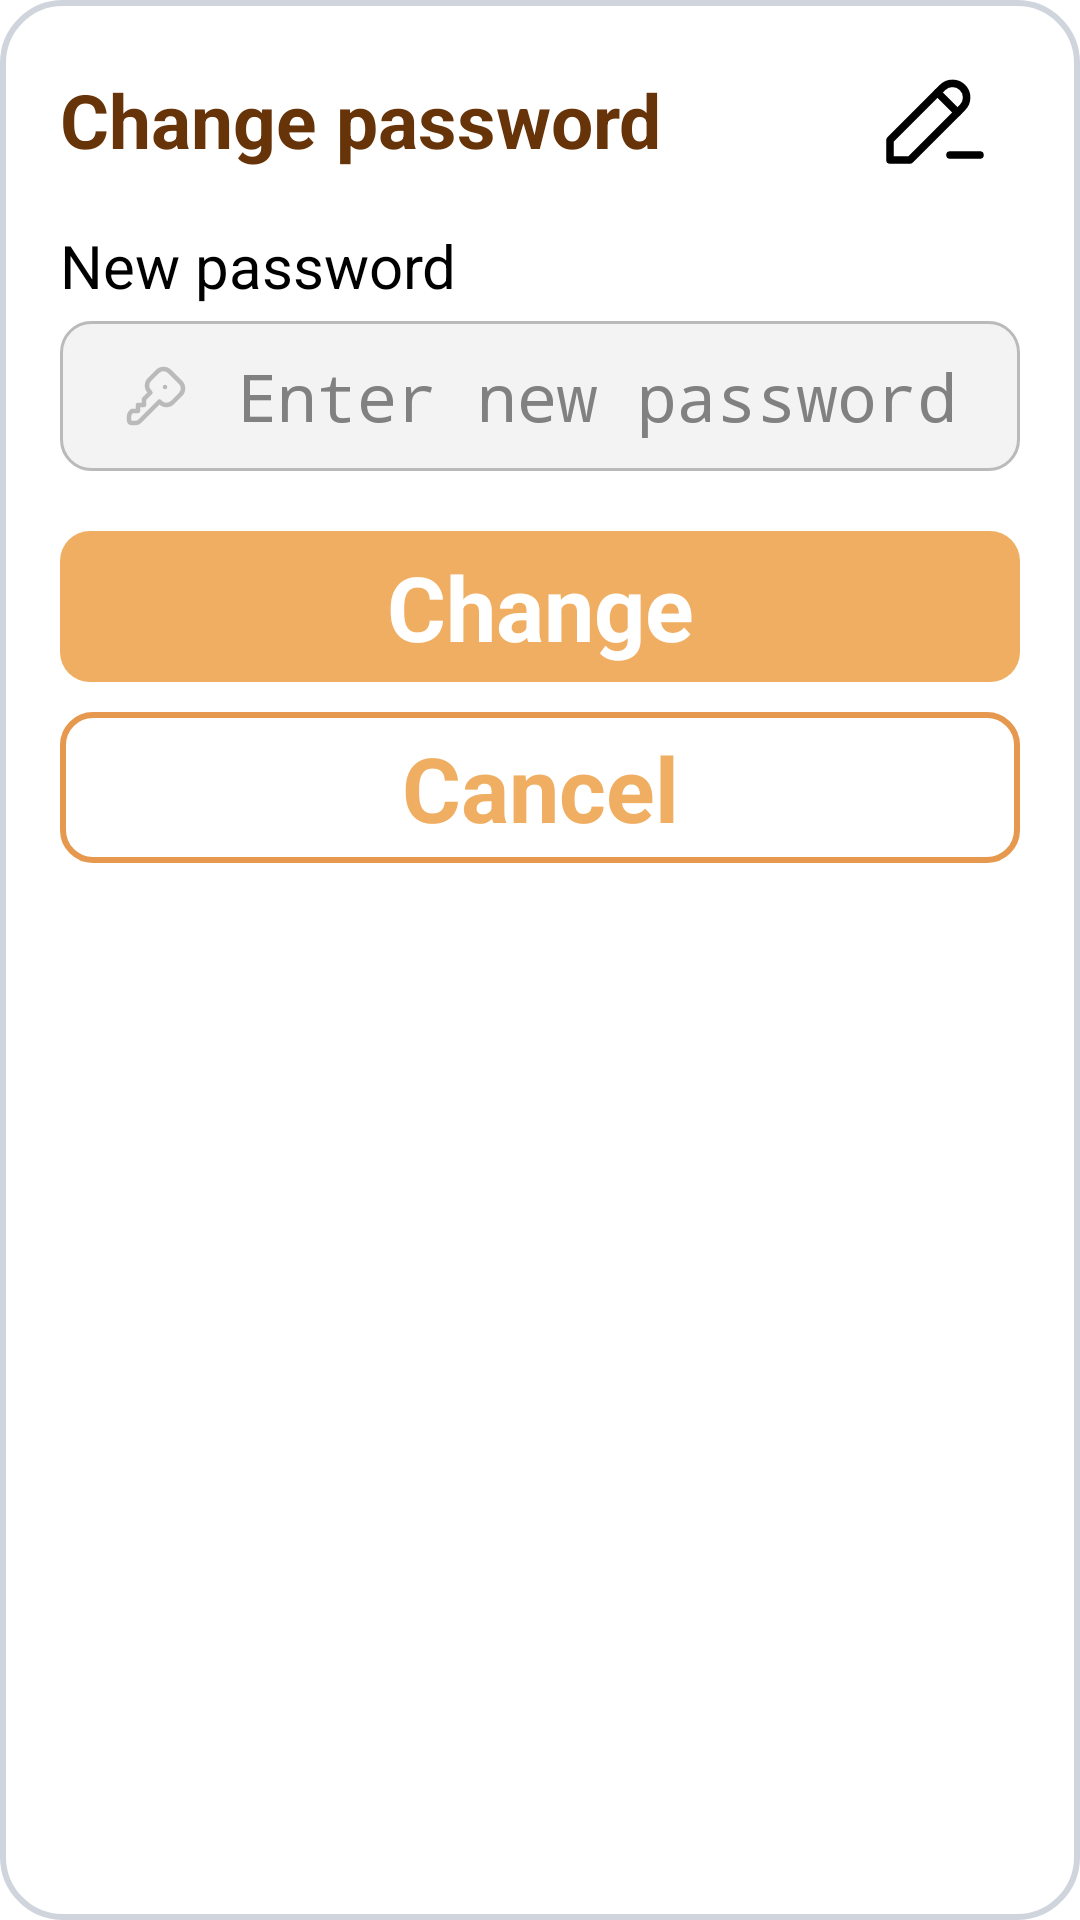

Named icons in this screenshot (1080 x 1920) and their bounding boxes, region(x1, y1, x2, y2):
pencil: region(886, 79, 984, 164)
